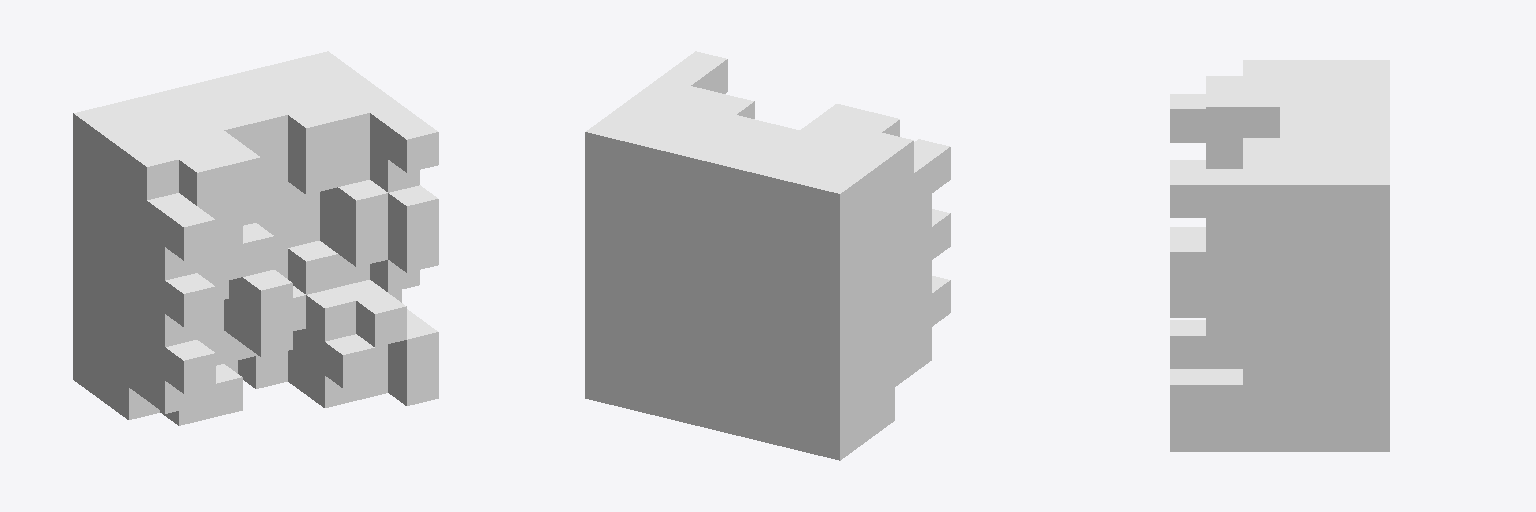
The model's file is CliffWall.obj.
The picture shows the model from 3 angles: view 1: azimuth 30°, elevation 25°; view 2: azimuth 150°, elevation 25°; view 3: azimuth 270°, elevation 25°; orthographic projection.
Visible parts, largest first — view 1: object 1; view 2: object 1; view 3: object 1.
Boxes of the visible parts, <box> form: object 1: <box>73,51,438,425</box>; object 1: <box>585,51,950,460</box>; object 1: <box>1170,60,1389,451</box>.
Bounding box in the file's own units: 0.8 × 0.8 × 0.6.